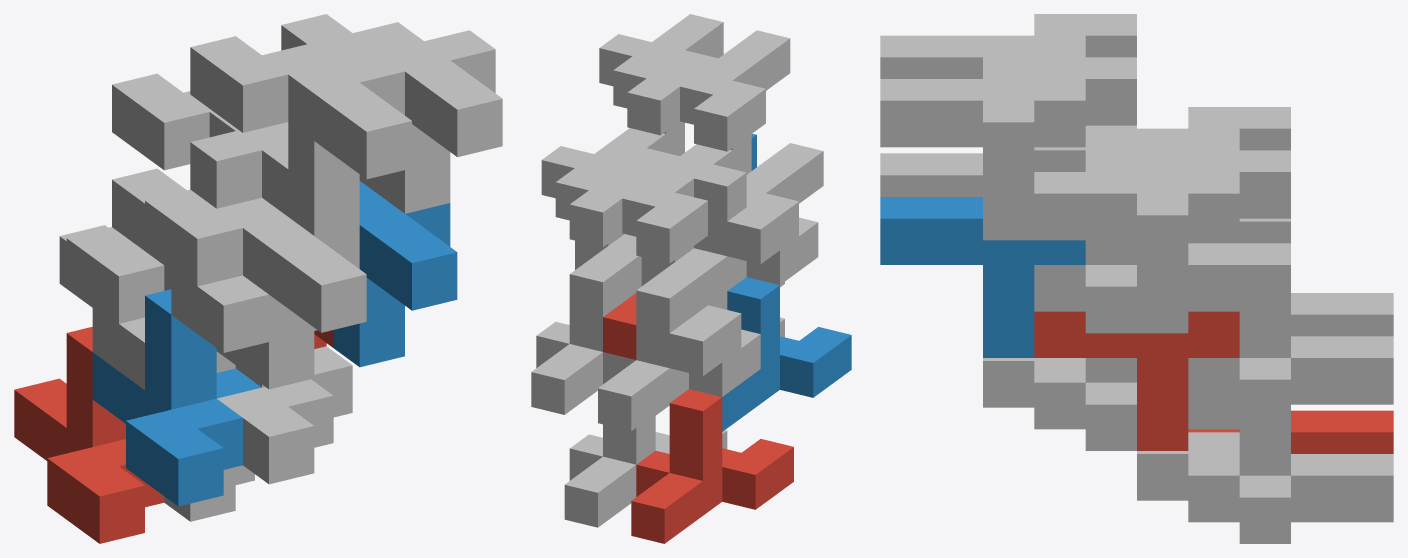
Rendered from tiling.obj.
The picture shows the model from 3 angles, left to right: view 1: azimuth 30°, elevation 25°; view 2: azimuth 150°, elevation 25°; view 3: azimuth 270°, elevation 25°; orthographic projection. The views are drawn at different scales.
Visible parts, largest first — view 1: copy_2_domain_4, copy_2_domain_2, copy_1_domain_2, copy_2_domain_8, copy_1_domain_1, copy_2_domain_6, copy_1_domain_4, copy_1_domain_6, copy_2_domain_3, copy_2_domain_1, copy_1_domain_3, copy_1_domain_5; view 2: copy_1_domain_1, copy_1_domain_3, copy_2_domain_4, copy_1_domain_2, copy_2_domain_8, copy_1_domain_4, copy_1_domain_7, copy_2_domain_3, copy_2_domain_7, copy_2_domain_2, copy_1_domain_5, copy_2_domain_1 (+2 smaller); view 3: copy_2_domain_7, copy_2_domain_8, copy_1_domain_5, copy_1_domain_7, copy_2_domain_6, copy_1_domain_6, copy_2_domain_5, copy_1_domain_8, copy_2_domain_4, copy_2_domain_3, copy_1_domain_3, copy_1_domain_1 (+1 smaller).
Boxes of the visible parts, box(x1,y1,x2,y2) form: copy_2_domain_4: box(190, 36, 411, 235); copy_2_domain_2: box(145, 189, 366, 389); copy_1_domain_2: box(92, 289, 261, 506); copy_2_domain_8: box(281, 14, 502, 213); copy_1_domain_1: box(14, 326, 164, 543); copy_2_domain_6: box(333, 181, 457, 367); copy_1_domain_4: box(138, 131, 268, 352); copy_1_domain_6: box(217, 346, 352, 484); copy_2_domain_3: box(112, 73, 288, 216); copy_2_domain_1: box(66, 227, 242, 372); copy_1_domain_3: box(59, 168, 182, 389); copy_1_domain_5: box(164, 465, 254, 521); copy_1_domain_1: box(631, 389, 793, 543); copy_1_domain_3: box(598, 276, 760, 430); copy_2_domain_4: box(666, 30, 790, 174); copy_1_domain_2: box(722, 277, 851, 431); copy_2_domain_8: box(599, 14, 723, 155); copy_1_domain_4: box(656, 164, 818, 318); copy_1_domain_7: box(531, 260, 622, 414); copy_2_domain_3: box(608, 144, 732, 285); copy_2_domain_7: box(541, 128, 665, 269); copy_2_domain_2: box(727, 143, 823, 287); copy_1_domain_5: box(564, 413, 727, 527); copy_2_domain_1: box(669, 291, 741, 376); copy_2_domain_7: box(1034, 150, 1290, 333); copy_2_domain_8: box(880, 57, 1136, 240); copy_1_domain_5: box(1137, 426, 1393, 543); copy_1_domain_7: box(1188, 243, 1393, 426); copy_2_domain_6: box(880, 197, 1085, 357); copy_1_domain_6: box(983, 358, 1239, 450); copy_2_domain_5: box(1034, 311, 1239, 450); copy_1_domain_8: box(1034, 150, 1239, 333); copy_2_domain_4: box(880, 14, 1136, 78); copy_2_domain_3: box(1034, 107, 1290, 171); copy_1_domain_3: box(1239, 218, 1393, 336); copy_1_domain_1: box(1188, 410, 1393, 453).
Size of the model in its own units: 7 by 10 by 10.
